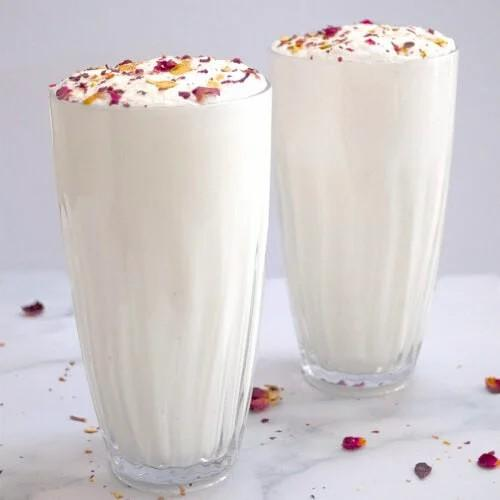Lassi: (51, 54, 270, 468), (271, 20, 457, 373)
